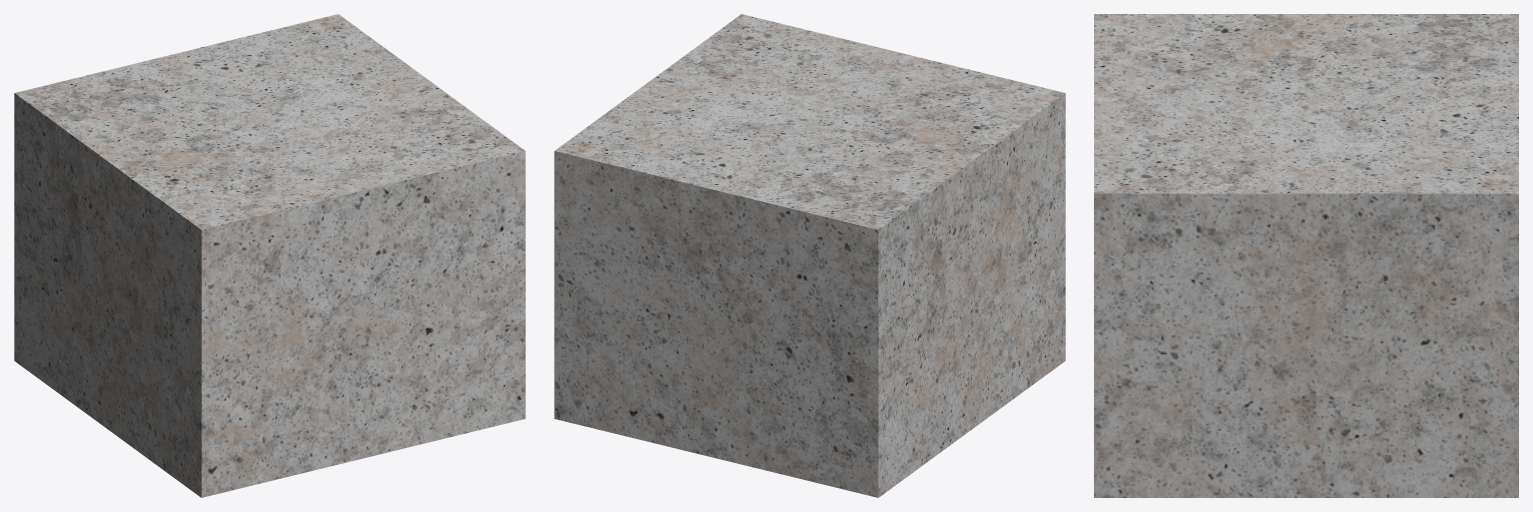
Rendered from SM_Stone01A.fbx.
3 renders of one model, left to right at view 1: azimuth 30°, elevation 25°; view 2: azimuth 150°, elevation 25°; view 3: azimuth 270°, elevation 25°, orthographic. The views are drawn at different scales.
Visible parts, largest first — view 1: SM_Stone01A; view 2: SM_Stone01A; view 3: SM_Stone01A.
Part boxes in pixels (bbox=[...]): SM_Stone01A: bbox=[14, 14, 525, 497]; SM_Stone01A: bbox=[554, 14, 1065, 497]; SM_Stone01A: bbox=[1094, 14, 1518, 497].
Size of the model in its own units: 46.02 by 46.02 by 36.38.
1 material, 1 textured.
